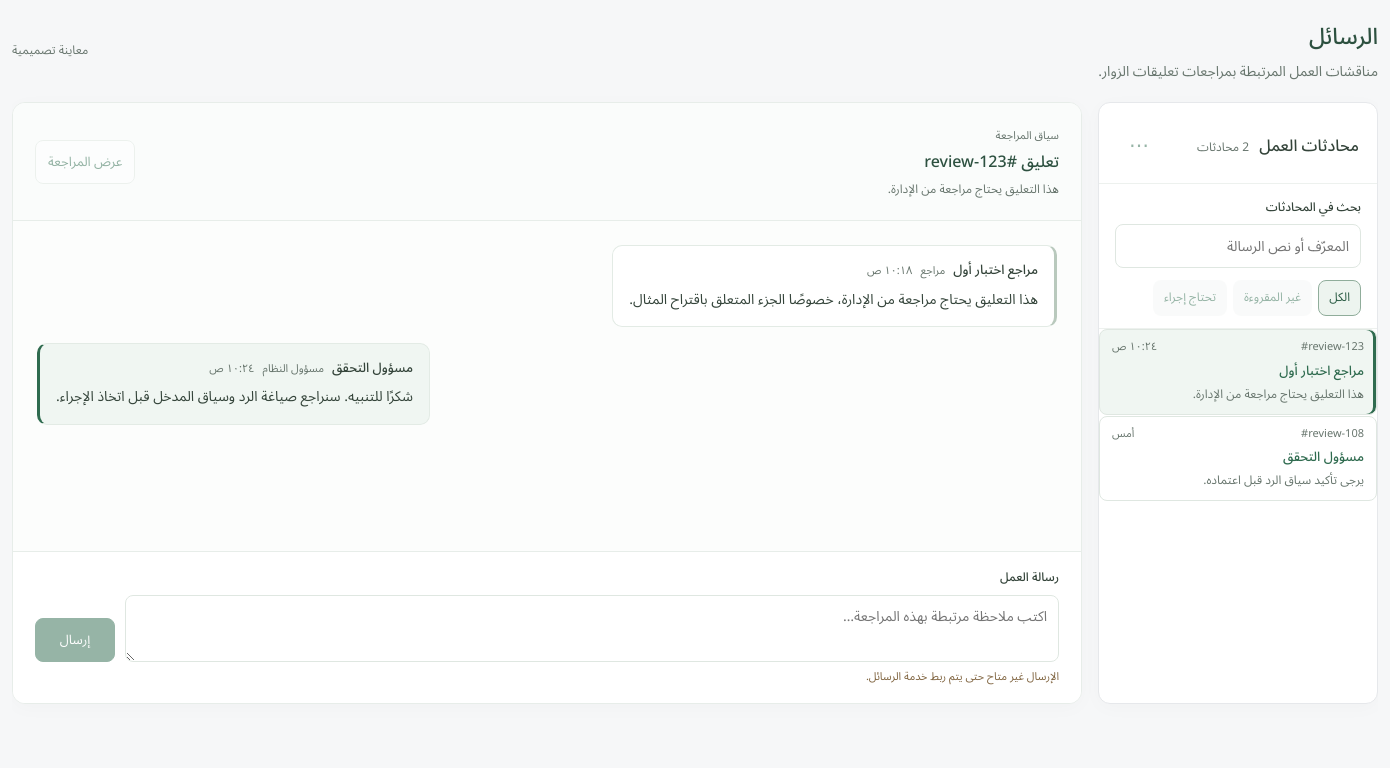
Test: Work Messages › supports preview search and a truthful no-match state
Type "غير موجود" into the search field labelled "بحث في المحادثات" at (1238, 246), box [1115,224,1361,268]
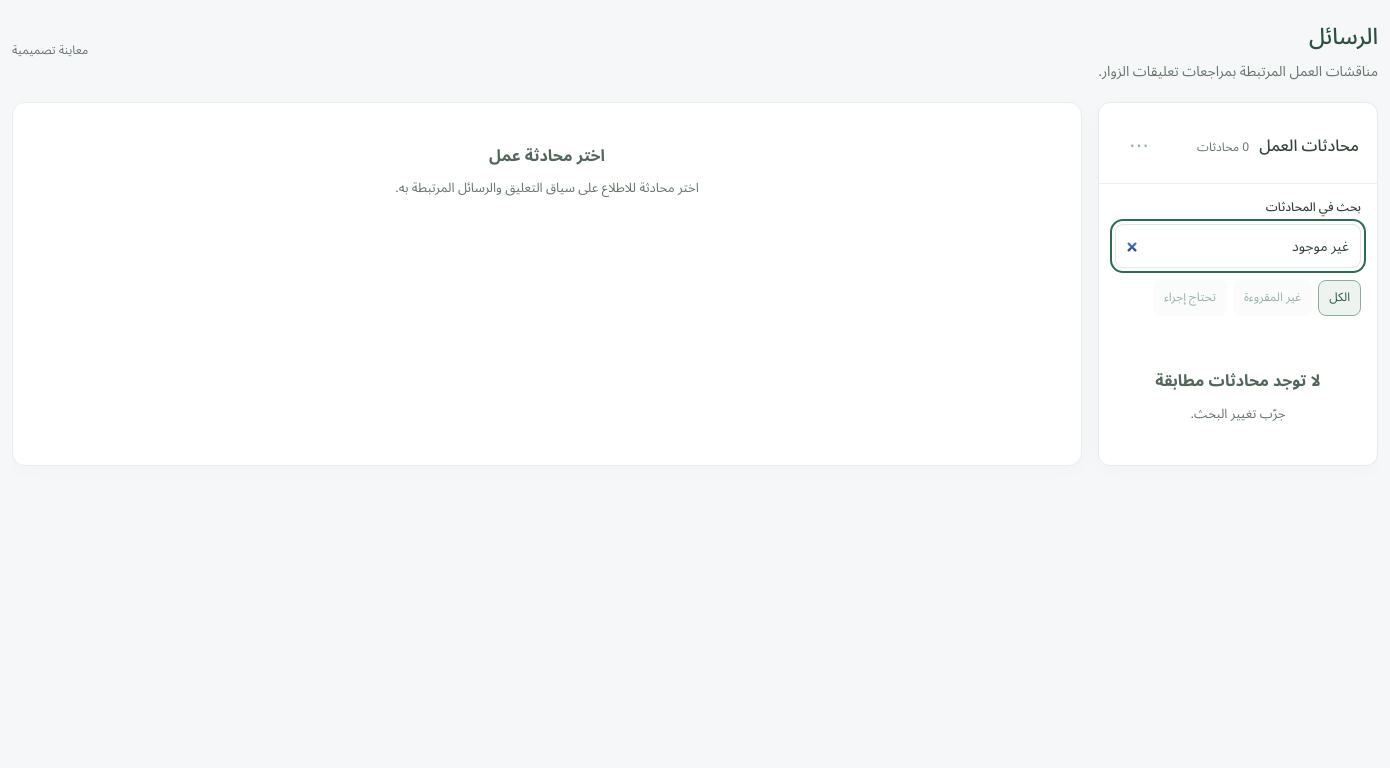
expect the text "لا توجد محادثات مطابقة" is shown: met, box [1155,364,1321,398]
expect the text "تعليق #review-123" is gone: met
